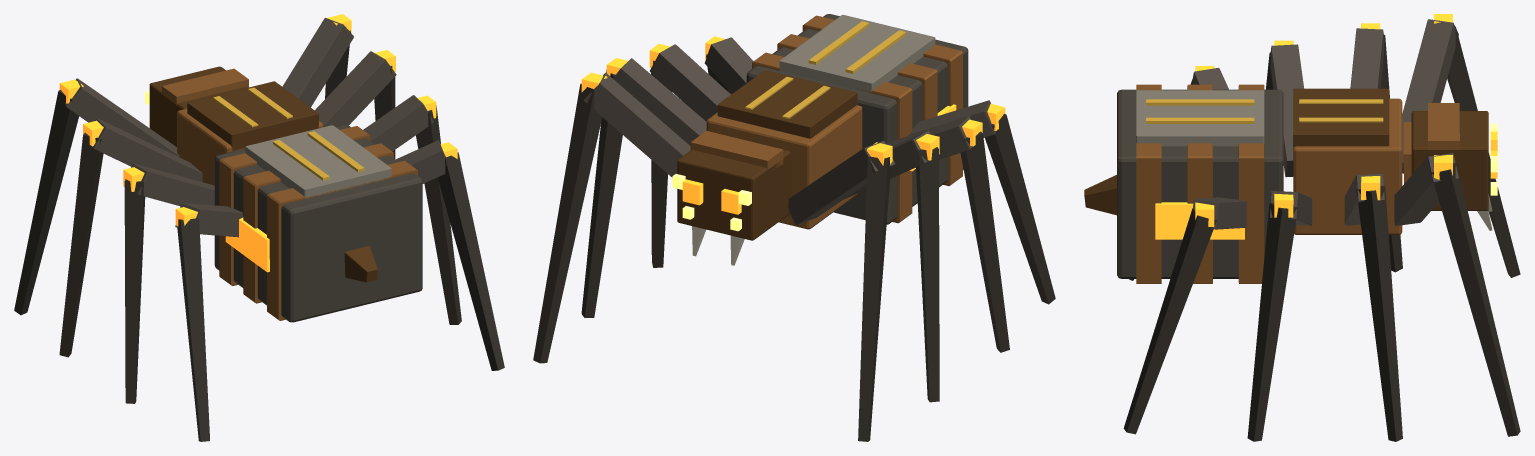
The model's file is spideron.glb.
3 views of the same model, side by side, from view 1: azimuth 30°, elevation 25°; view 2: azimuth 150°, elevation 25°; view 3: azimuth 270°, elevation 25° (orthographic). The views are drawn at different scales.
Parts seen in each view (by area): view 1: body, leg.FR, leg.BR, leg.BL, leg.FL, head; view 2: body, leg.FL, leg.FR, leg.BR, head, leg.BL; view 3: body, leg.FL, leg.BL, leg.FR, head, leg.BR.
Part boxes in pixels (x1,y1,x2,y2): body: (177, 81, 422, 322); leg.FR: (14, 78, 202, 357); leg.BR: (123, 163, 242, 441); leg.BL: (363, 95, 504, 370); leg.FL: (282, 14, 396, 158); head: (145, 66, 248, 146); body: (706, 14, 968, 229); leg.FL: (533, 58, 706, 363); leg.FR: (788, 130, 940, 441); leg.BR: (886, 100, 1055, 352); head: (672, 131, 790, 265); leg.BL: (649, 36, 753, 267); body: (1084, 84, 1402, 283); leg.FL: (1344, 153, 1520, 441); leg.BL: (1123, 191, 1312, 441); leg.FR: (1350, 14, 1520, 277); head: (1403, 103, 1497, 230); leg.BR: (1129, 40, 1303, 280).
Bounding box in the file's own units: 1.42 × 1 × 1.48.
